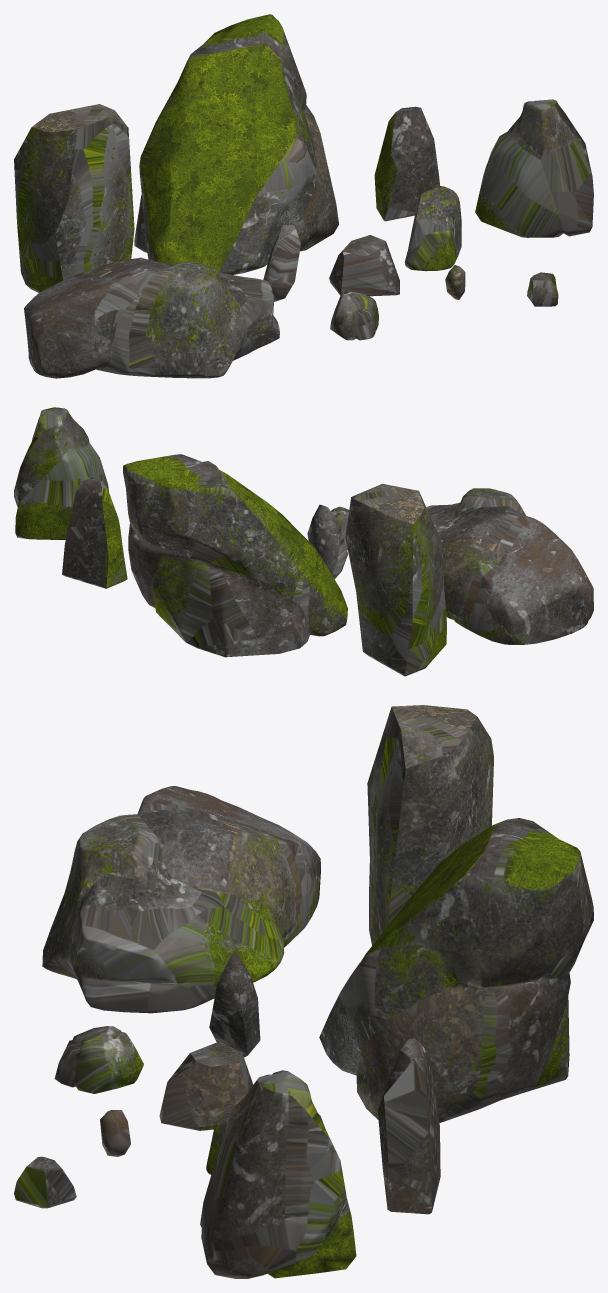
Rendered from rock_stylized_kit_01_mesh_11pcs.glb.
3 renders of one model, top to bottom at view 1: azimuth 30°, elevation 25°; view 2: azimuth 150°, elevation 25°; view 3: azimuth 270°, elevation 25°, orthographic. The views are drawn at different scales.
Parts seen in each view (by area): view 1: SM_Rocks_04, SM_Rocks_03, SM_Rocks_09, SM_Rocks_05, SM_Rocks_08, SM_Rocks_02, SM_Rocks_07, SM_Rocks_01, SM_Rocks_11, SM_Rocks_06, SM_Rocks_10; view 2: SM_Rocks_04, SM_Rocks_03, SM_Rocks_09, SM_Rocks_05, SM_Rocks_08, SM_Rocks_11; view 3: SM_Rocks_04, SM_Rocks_03, SM_Rocks_05, SM_Rocks_09, SM_Rocks_08, SM_Rocks_07, SM_Rocks_01, SM_Rocks_11, SM_Rocks_06, SM_Rocks_10.
Boxes of the visible parts, <box> form: SM_Rocks_04: <box>134,14,338,274</box>; SM_Rocks_03: <box>24,257,279,378</box>; SM_Rocks_09: <box>14,104,134,292</box>; SM_Rocks_05: <box>475,99,593,237</box>; SM_Rocks_08: <box>374,106,439,221</box>; SM_Rocks_02: <box>404,186,461,271</box>; SM_Rocks_07: <box>329,235,399,296</box>; SM_Rocks_01: <box>330,289,378,340</box>; SM_Rocks_11: <box>263,225,300,301</box>; SM_Rocks_06: <box>527,272,558,306</box>; SM_Rocks_10: <box>445,265,465,299</box>; SM_Rocks_04: <box>123,454,347,657</box>; SM_Rocks_03: <box>426,488,593,644</box>; SM_Rocks_09: <box>345,483,446,676</box>; SM_Rocks_05: <box>14,407,108,539</box>; SM_Rocks_08: <box>62,477,127,588</box>; SM_Rocks_11: <box>307,504,348,578</box>; SM_Rocks_04: <box>319,818,593,1122</box>; SM_Rocks_03: <box>42,786,320,1013</box>; SM_Rocks_05: <box>200,1070,356,1278</box>; SM_Rocks_09: <box>367,705,493,945</box>; SM_Rocks_08: <box>377,1038,440,1214</box>; SM_Rocks_07: <box>159,1041,253,1130</box>; SM_Rocks_01: <box>54,1026,143,1093</box>; SM_Rocks_11: <box>209,950,260,1057</box>; SM_Rocks_06: <box>14,1156,76,1208</box>; SM_Rocks_10: <box>100,1110,130,1156</box>.
Bounding box in the file's own units: 5.59 × 1.7 × 3.35.
Materials: 1 (1 with a texture image).
